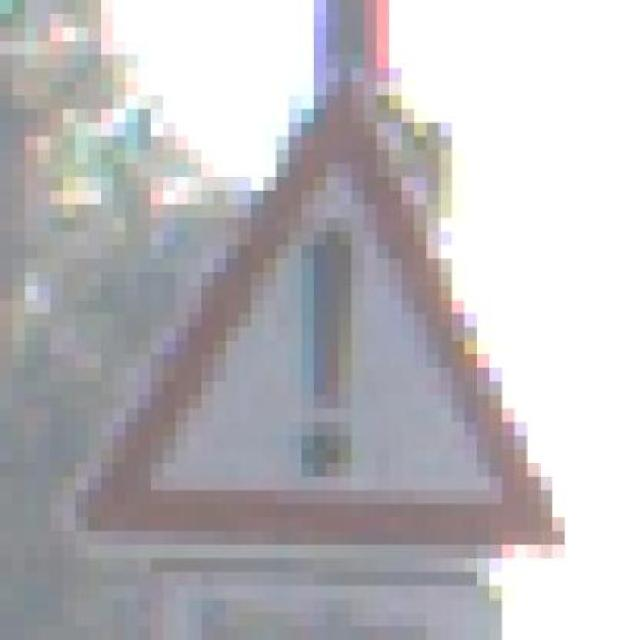Attention Please-: (62, 82, 566, 572)
